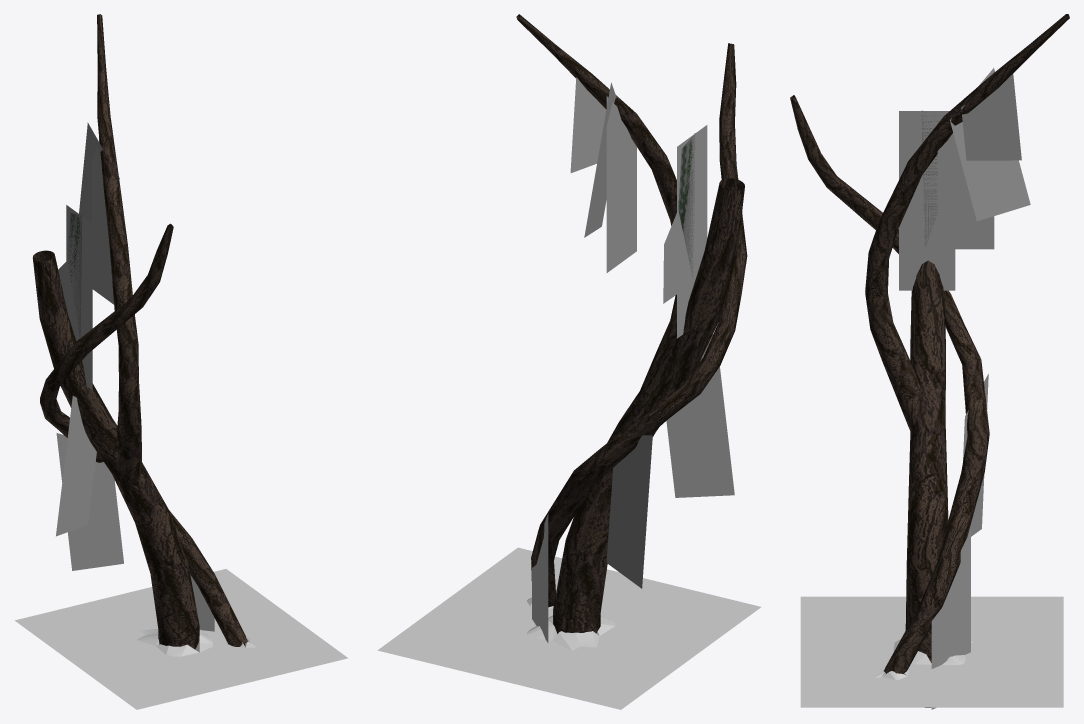
File: Folliage3_Mesh.fbx
3 views of the same model, side by side, from view 1: azimuth 30°, elevation 25°; view 2: azimuth 150°, elevation 25°; view 3: azimuth 270°, elevation 25° (orthographic). The views are drawn at different scales.
Parts seen in each view (by area): view 1: polySurface209; view 2: polySurface209; view 3: polySurface209.
Part boxes in pixels (box(x1,y1,x2,y2)): polySurface209: box(14, 14, 347, 709); polySurface209: box(377, 14, 760, 709); polySurface209: box(790, 14, 1069, 709).
Size of the model in its own units: 154 by 364 by 136.
